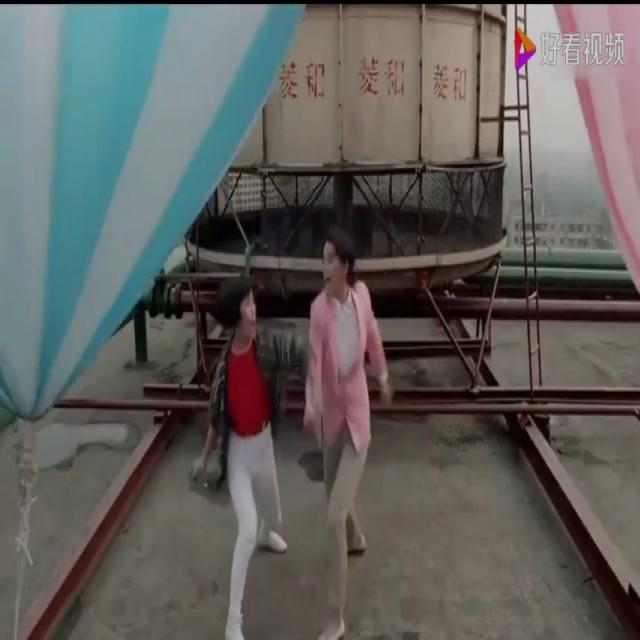fight: (186, 222, 393, 638)
